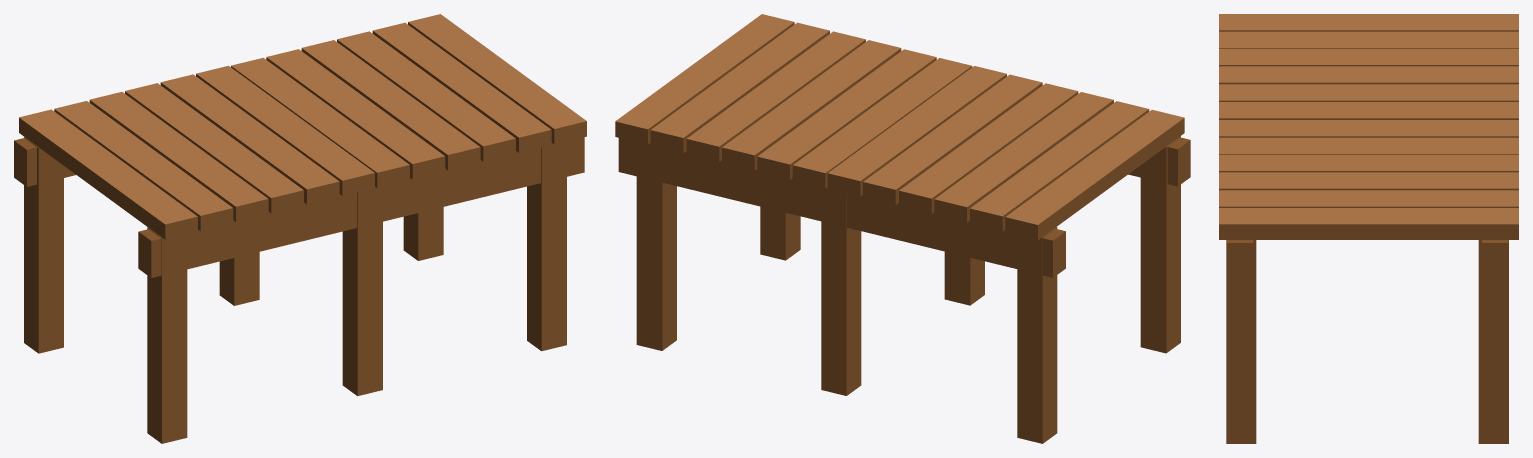
Rendered from BRIDGE.fbx.
3 views of the same model, side by side, from view 1: azimuth 30°, elevation 25°; view 2: azimuth 150°, elevation 25°; view 3: azimuth 270°, elevation 25° (orthographic). The views are drawn at different scales.
Parts seen in each view (by area): view 1: Cube.033; view 2: Cube.033; view 3: Cube.033.
Boxes of the visible parts, left/top/right/bottom form: Cube.033: left=14, top=14, right=586, bottom=443; Cube.033: left=615, top=14, right=1190, bottom=443; Cube.033: left=1219, top=14, right=1518, bottom=443.
Bounding box in the file's own units: 3930 × 1928 × 2299.
